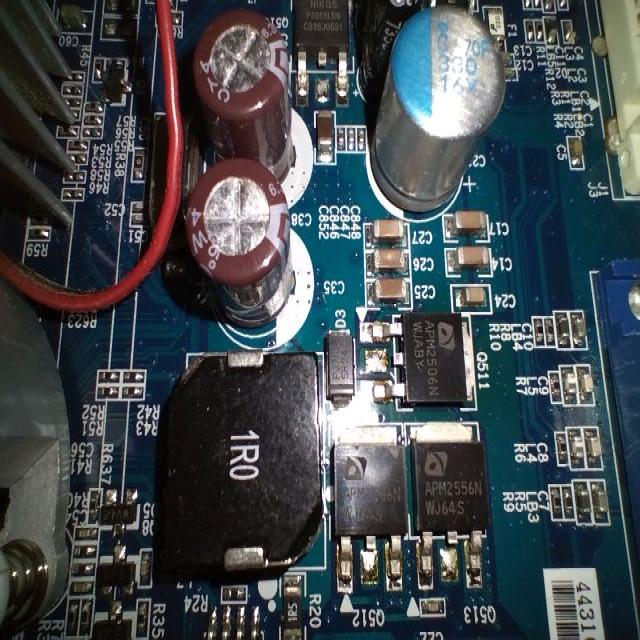capacitor: (345, 203, 426, 263), (436, 194, 502, 247), (576, 414, 609, 476), (567, 305, 592, 346)
resistor: (89, 348, 125, 394), (538, 365, 569, 413), (544, 424, 576, 469), (549, 426, 572, 476), (86, 378, 120, 410), (544, 482, 568, 526), (114, 380, 150, 409), (120, 366, 152, 391)
